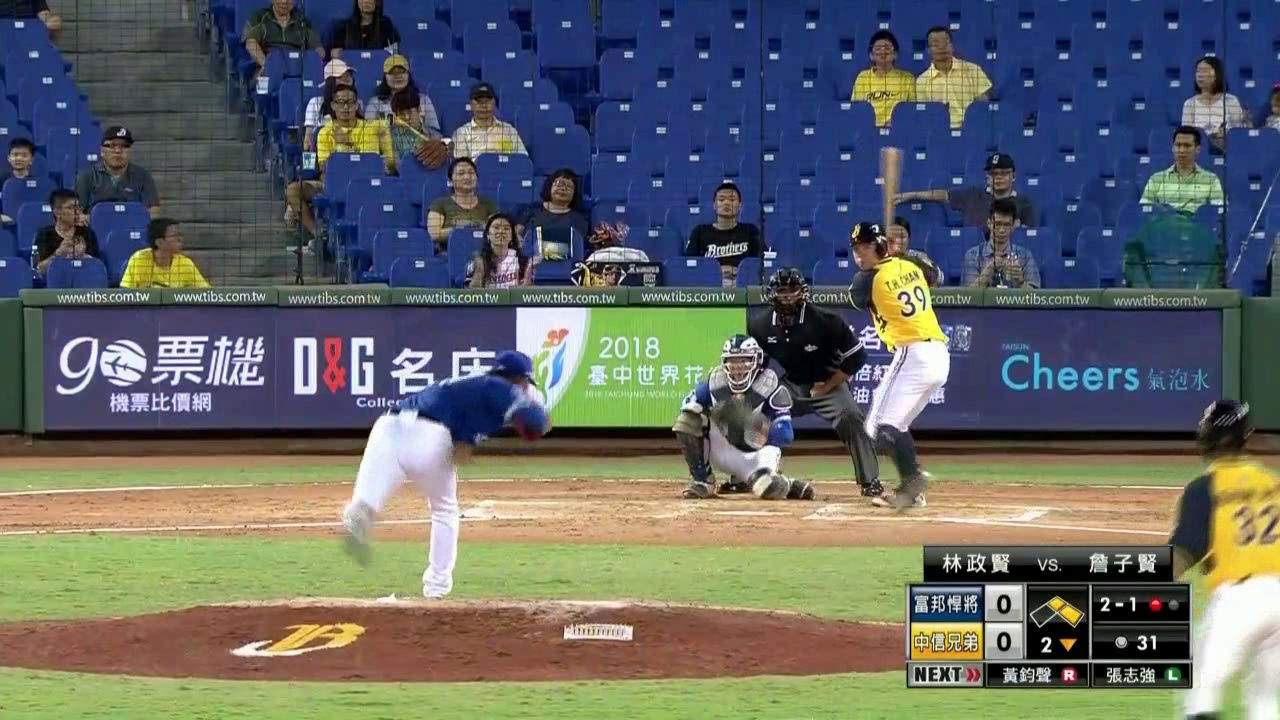ball: (543, 239, 561, 256)
base: (1027, 589, 1086, 630)
bat: (882, 143, 906, 235)
out: (1143, 588, 1188, 618)
score1: (988, 588, 1022, 621)
score2: (988, 628, 1022, 658)
session: (1028, 633, 1084, 662)
strikeball: (1093, 589, 1141, 624)
total: (1099, 633, 1187, 659)
